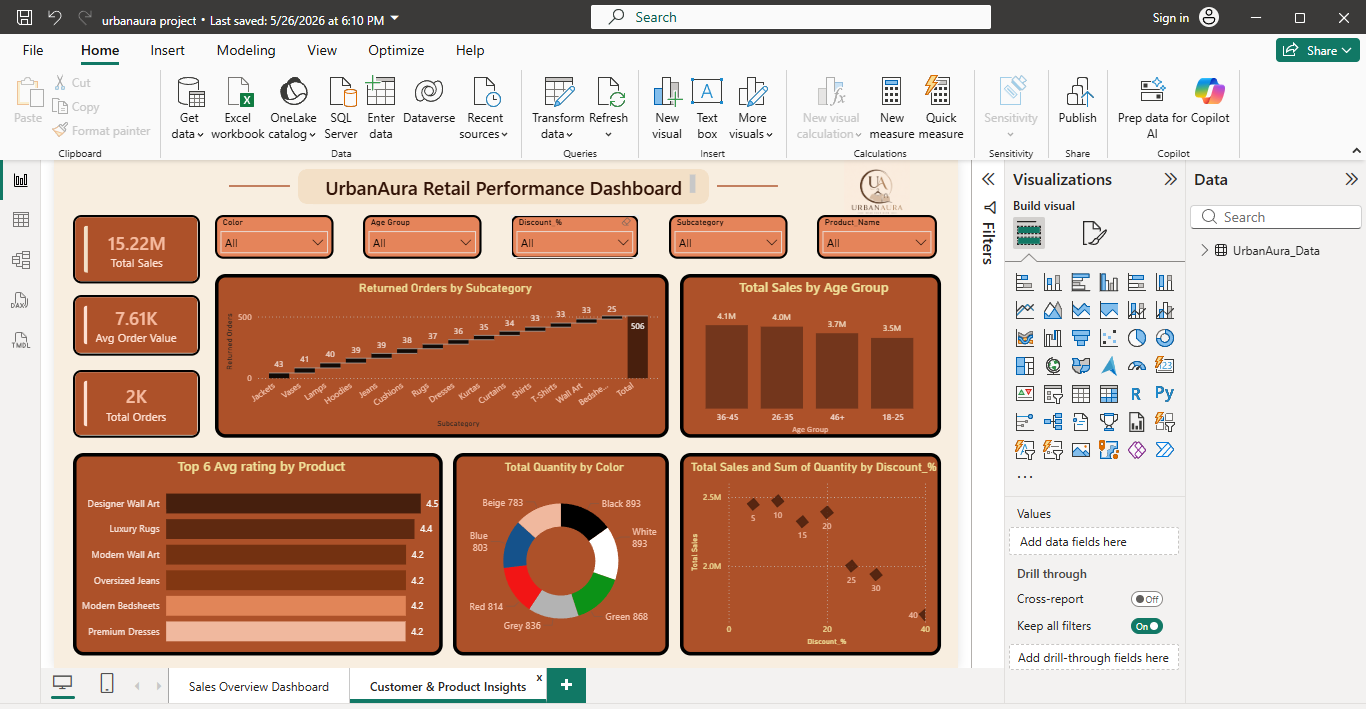

What the dashboard file says about the page in this screenshot:
{"tool":"powerbi","page":{"name":"Customer & Product Insights","canvas":[1280,720],"ordinal":1},"visuals":[{"type":"shape","box":[345.8,12.8,582.5,49.6],"z":0},{"type":"textbox","box":[366.5,15.6,547.1,46.8],"z":1000},{"type":"image","box":[1107,0,119.3,92.4],"z":2000},{"type":"shape","box":[939.7,12.8,86.5,48.2],"z":3000},{"type":"shape","box":[248,12.8,86.5,48.2],"z":4000},{"type":"cardVisual","fields":{"Data":["UrbanAura_Data.Total Sales"]},"box":[26.9,77.3,179.7,97.4],"z":5000},{"type":"cardVisual","fields":{"Data":["UrbanAura_Data.DAX Total Orders"]},"box":[26.9,297.3,179.7,95.7],"z":7000},{"type":"cardVisual","fields":{"Data":["UrbanAura_Data.Avg Order Value"]},"box":[26.9,191.5,179.7,85.7],"z":8000},{"type":"clusteredColumnChart","fields":{"Y":["UrbanAura_Data.Total Sales"],"Category":["UrbanAura_Data.Age Group"]},"box":[886.9,161.3,369.6,231.8],"z":10000},{"type":"clusteredBarChart","title":"Top 6 Avg rating by Product ","fields":{"Category":["UrbanAura_Data.Product_Name"],"Y":["UrbanAura_Data.Avg Rating"]},"box":[26.9,414.9,524.1,287.2],"z":11000},{"type":"scatterChart","fields":{"X":["UrbanAura_Data.Discount_%"],"Y":["UrbanAura_Data.Total Sales"],"Size":["Sum(UrbanAura_Data.Quantity)"]},"box":[886.9,414.9,369.6,287.2],"z":12000},{"type":"donutChart","fields":{"Category":["UrbanAura_Data.Color"],"Y":["UrbanAura_Data.Total Quantity"]},"box":[566.1,414.9,305.7,287.2],"z":13000},{"type":"waterfallChart","fields":{"Category":["UrbanAura_Data.Subcategory"],"Y":["UrbanAura_Data.Returned Orders"]},"box":[228.5,161.3,643.4,231.8],"z":14000},{"type":"slicer","fields":{"Values":["UrbanAura_Data.Subcategory"]},"box":[871.8,77.3,168,62.2],"z":16000},{"type":"slicer","fields":{"Values":["UrbanAura_Data.Color"]},"box":[228.5,77.3,168,62.2],"z":17000},{"type":"slicer","fields":{"Values":["UrbanAura_Data.Age Group"]},"box":[438.4,77.3,168,62.2],"z":18000},{"type":"slicer","fields":{"Values":["UrbanAura_Data.Discount_%"]},"box":[648.4,77.3,181.4,62.2],"z":19000},{"type":"slicer","fields":{"Values":["UrbanAura_Data.Product_Name"]},"box":[1081.8,77.3,169.7,62.2],"z":20000}]}

Visuals, with their boxes on the page's 1280x720 design canvas (x1, y1, x2, y2). These are canvas units, not pixel positions in the 1366x709 screenshot, which may show the page scaled, cropped or inside an application window:
shape: (346, 13, 928, 62)
textbox: (366, 16, 914, 62)
image: (1107, 0, 1226, 92)
shape: (940, 13, 1026, 61)
shape: (248, 13, 334, 61)
cardVisual - UrbanAura_Data.Total Sales: (27, 77, 207, 175)
cardVisual - UrbanAura_Data.DAX Total Orders: (27, 297, 207, 393)
cardVisual - UrbanAura_Data.Avg Order Value: (27, 192, 207, 277)
clusteredColumnChart - UrbanAura_Data.Total Sales x UrbanAura_Data.Age Group: (887, 161, 1256, 393)
"Top 6 Avg rating by Product " clusteredBarChart: (27, 415, 551, 702)
scatterChart - UrbanAura_Data.Discount_% x UrbanAura_Data.Total Sales: (887, 415, 1256, 702)
donutChart - UrbanAura_Data.Color x UrbanAura_Data.Total Quantity: (566, 415, 872, 702)
waterfallChart - UrbanAura_Data.Subcategory x UrbanAura_Data.Returned Orders: (228, 161, 872, 393)
slicer - UrbanAura_Data.Subcategory: (872, 77, 1040, 140)
slicer - UrbanAura_Data.Color: (228, 77, 396, 140)
slicer - UrbanAura_Data.Age Group: (438, 77, 606, 140)
slicer - UrbanAura_Data.Discount_%: (648, 77, 830, 140)
slicer - UrbanAura_Data.Product_Name: (1082, 77, 1252, 140)
